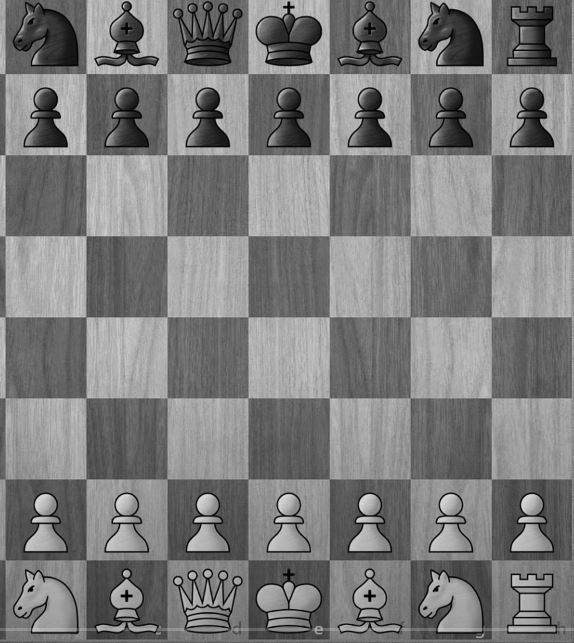bishop: (87, 1, 167, 73), (332, 3, 406, 74), (94, 567, 163, 638)
king: (249, 562, 332, 635), (250, 1, 324, 70)
knight: (2, 557, 82, 638), (412, 560, 495, 638), (2, 1, 85, 73), (418, 2, 489, 75)
pawn: (490, 477, 574, 560), (333, 74, 412, 156), (251, 74, 330, 154), (90, 76, 169, 155), (490, 76, 570, 153), (4, 479, 86, 554), (170, 76, 249, 153), (87, 483, 164, 561), (332, 483, 408, 562), (4, 74, 81, 150), (253, 480, 328, 558), (169, 481, 242, 558), (416, 482, 490, 557), (416, 77, 489, 152)
queen: (172, 1, 249, 73), (173, 564, 246, 637)
rook: (493, 560, 574, 639), (494, 3, 572, 72)
